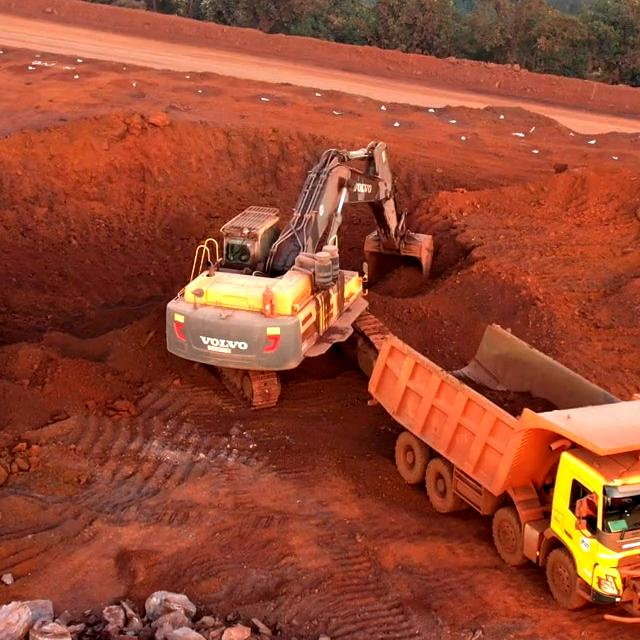Dumper truck: (497, 409, 640, 564)
Excavator: (181, 208, 372, 383)
